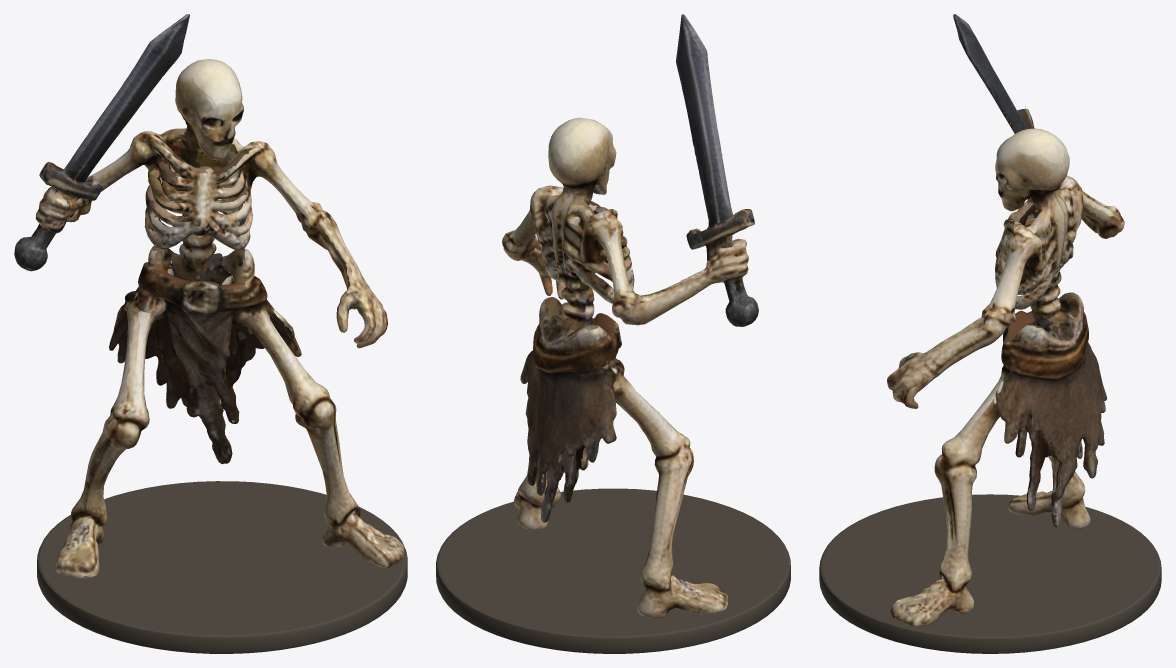
The model's file is skeleton.glb.
3 views of the same model, side by side, from view 1: azimuth 30°, elevation 25°; view 2: azimuth 150°, elevation 25°; view 3: azimuth 270°, elevation 25° (orthographic). The views are drawn at different scales.
Visible parts, largest first — view 1: skeleton_body, skeleton_round_base; view 2: skeleton_body, skeleton_round_base; view 3: skeleton_body, skeleton_round_base.
Part boxes in pixels (x1,y1,x2,y2): skeleton_body: (14, 14, 405, 578); skeleton_round_base: (37, 481, 407, 653); skeleton_body: (502, 14, 758, 617); skeleton_round_base: (436, 488, 790, 653); skeleton_body: (887, 14, 1124, 627); skeleton_round_base: (819, 494, 1161, 653).
Size of the model in its own units: 1.05 by 1.75 by 1.
Materials: 2 (1 with a texture image).
